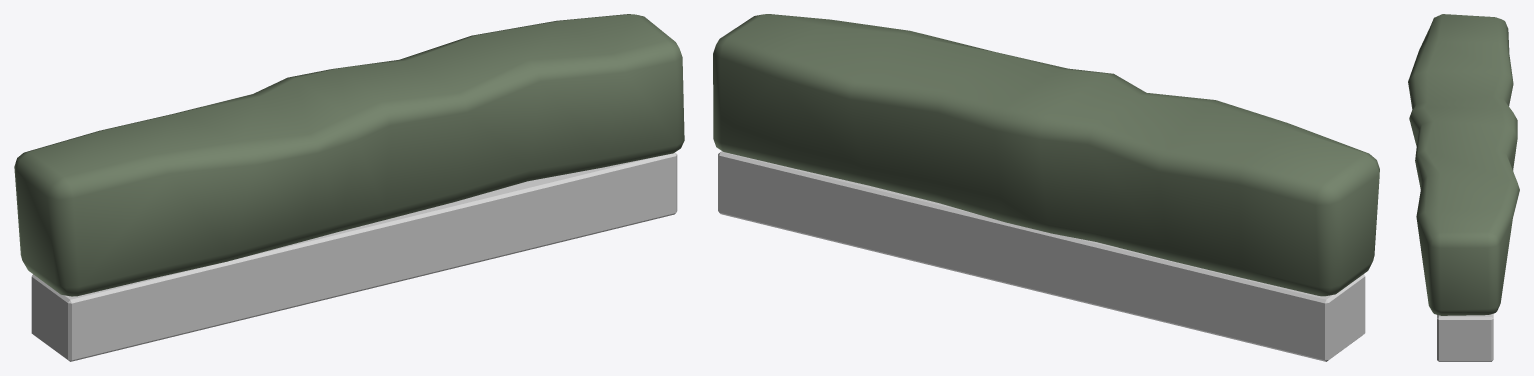
Rendered from EP_ENV_hedge.fbx.
The picture shows the model from 3 angles, left to right: view 1: azimuth 30°, elevation 25°; view 2: azimuth 150°, elevation 25°; view 3: azimuth 270°, elevation 25°; orthographic projection. The views are drawn at different scales.
Visible parts, largest first — view 1: EP_ENV_hedge; view 2: EP_ENV_hedge; view 3: EP_ENV_hedge.
Part boxes in pixels (<box>): EP_ENV_hedge: <box>14,14,684,361</box>; EP_ENV_hedge: <box>713,14,1379,361</box>; EP_ENV_hedge: <box>1408,14,1519,361</box>.
Bounding box in the file's own units: 747 × 213 × 158.
